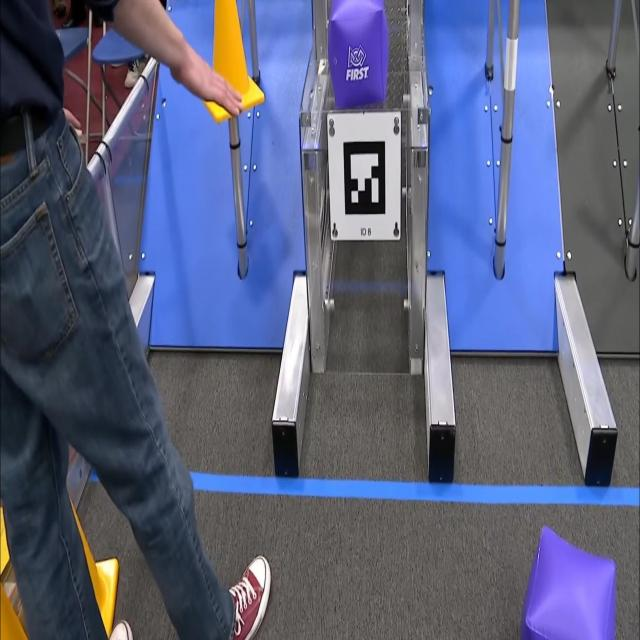frc_cone: (198, 0, 266, 125), (62, 498, 119, 638), (0, 572, 31, 640)
frc_cube: (525, 526, 624, 640), (328, 0, 389, 110)
